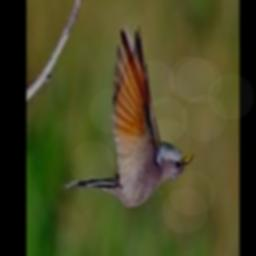Cuckoo: (61, 24, 193, 208)
